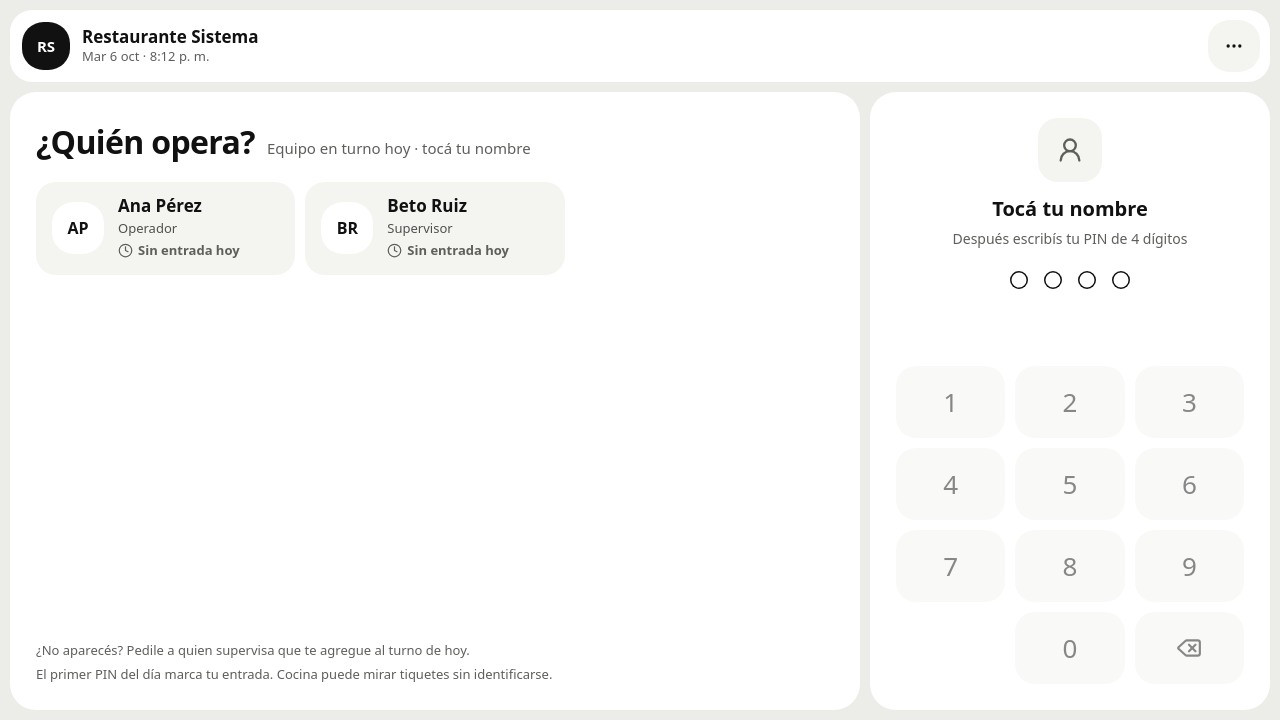
Test: DeviceIdentifyPage — Quién opera › muestra PIN_LOCKED (u otro error del servidor) tal cual llega
This screenshot has width=1280, height=720.
Click the radio button with aria-label "Beto Ruiz, Supervisor" at x=435, y=228, box [305,182,565,274]
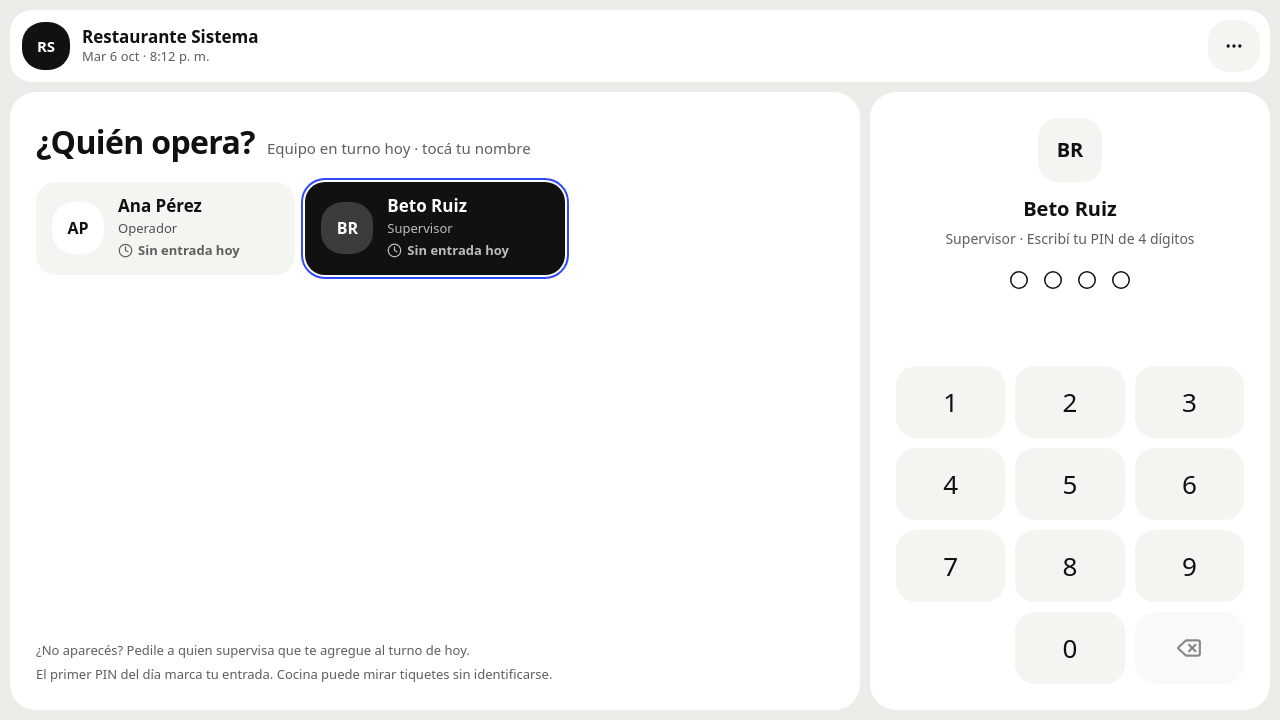
Type keys "5001"
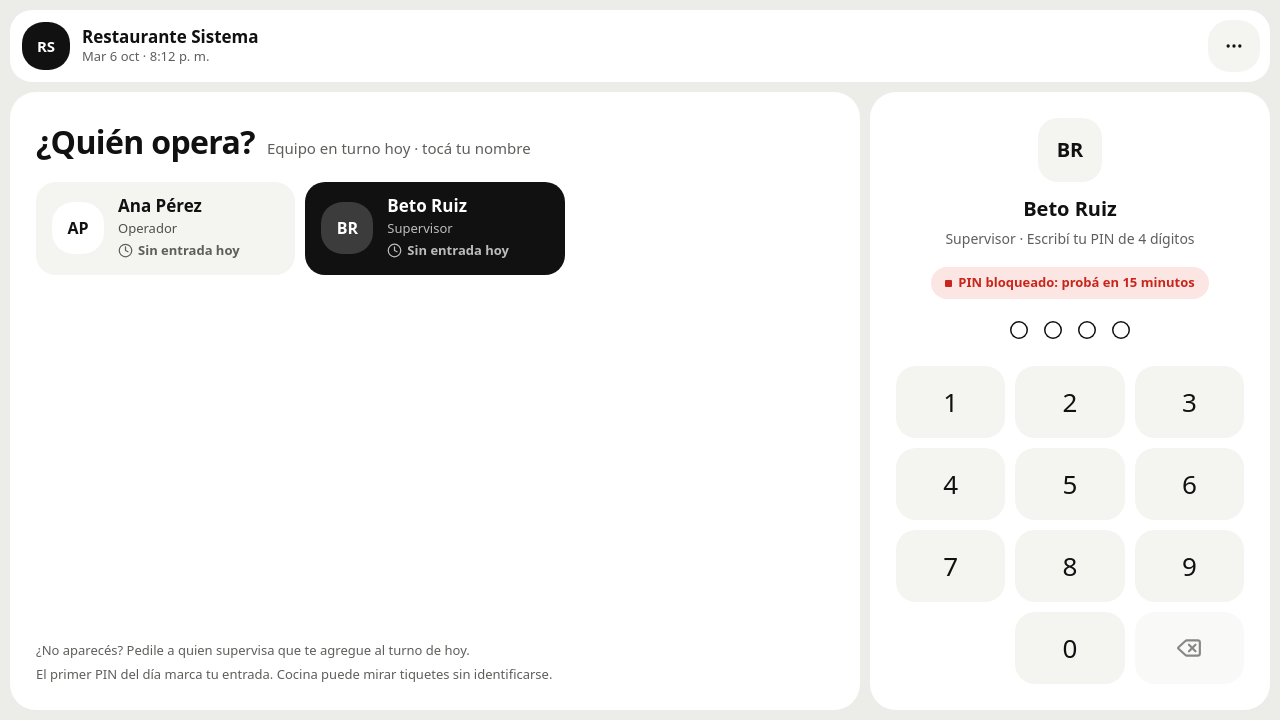
Now the message reads "PIN bloqueado: probá en 15 minutos", box [958,273,1195,291]
